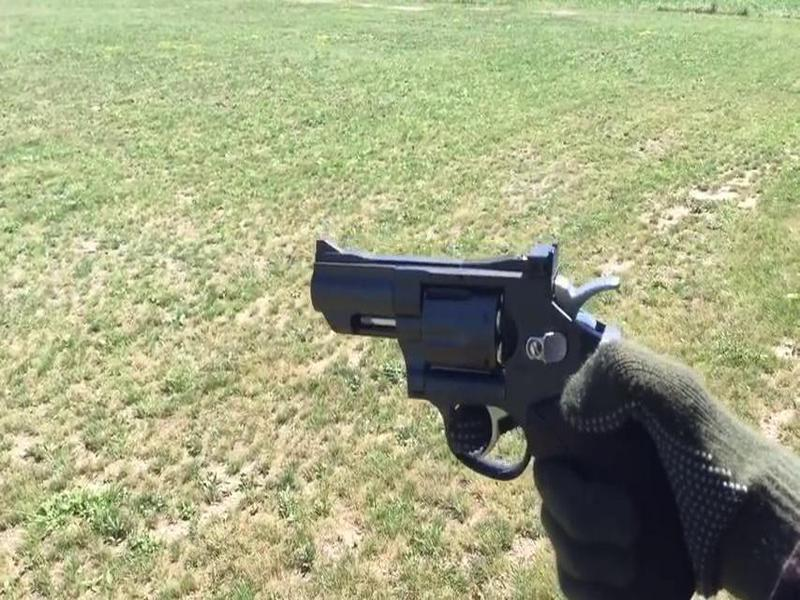Revolver: (297, 218, 707, 600)
